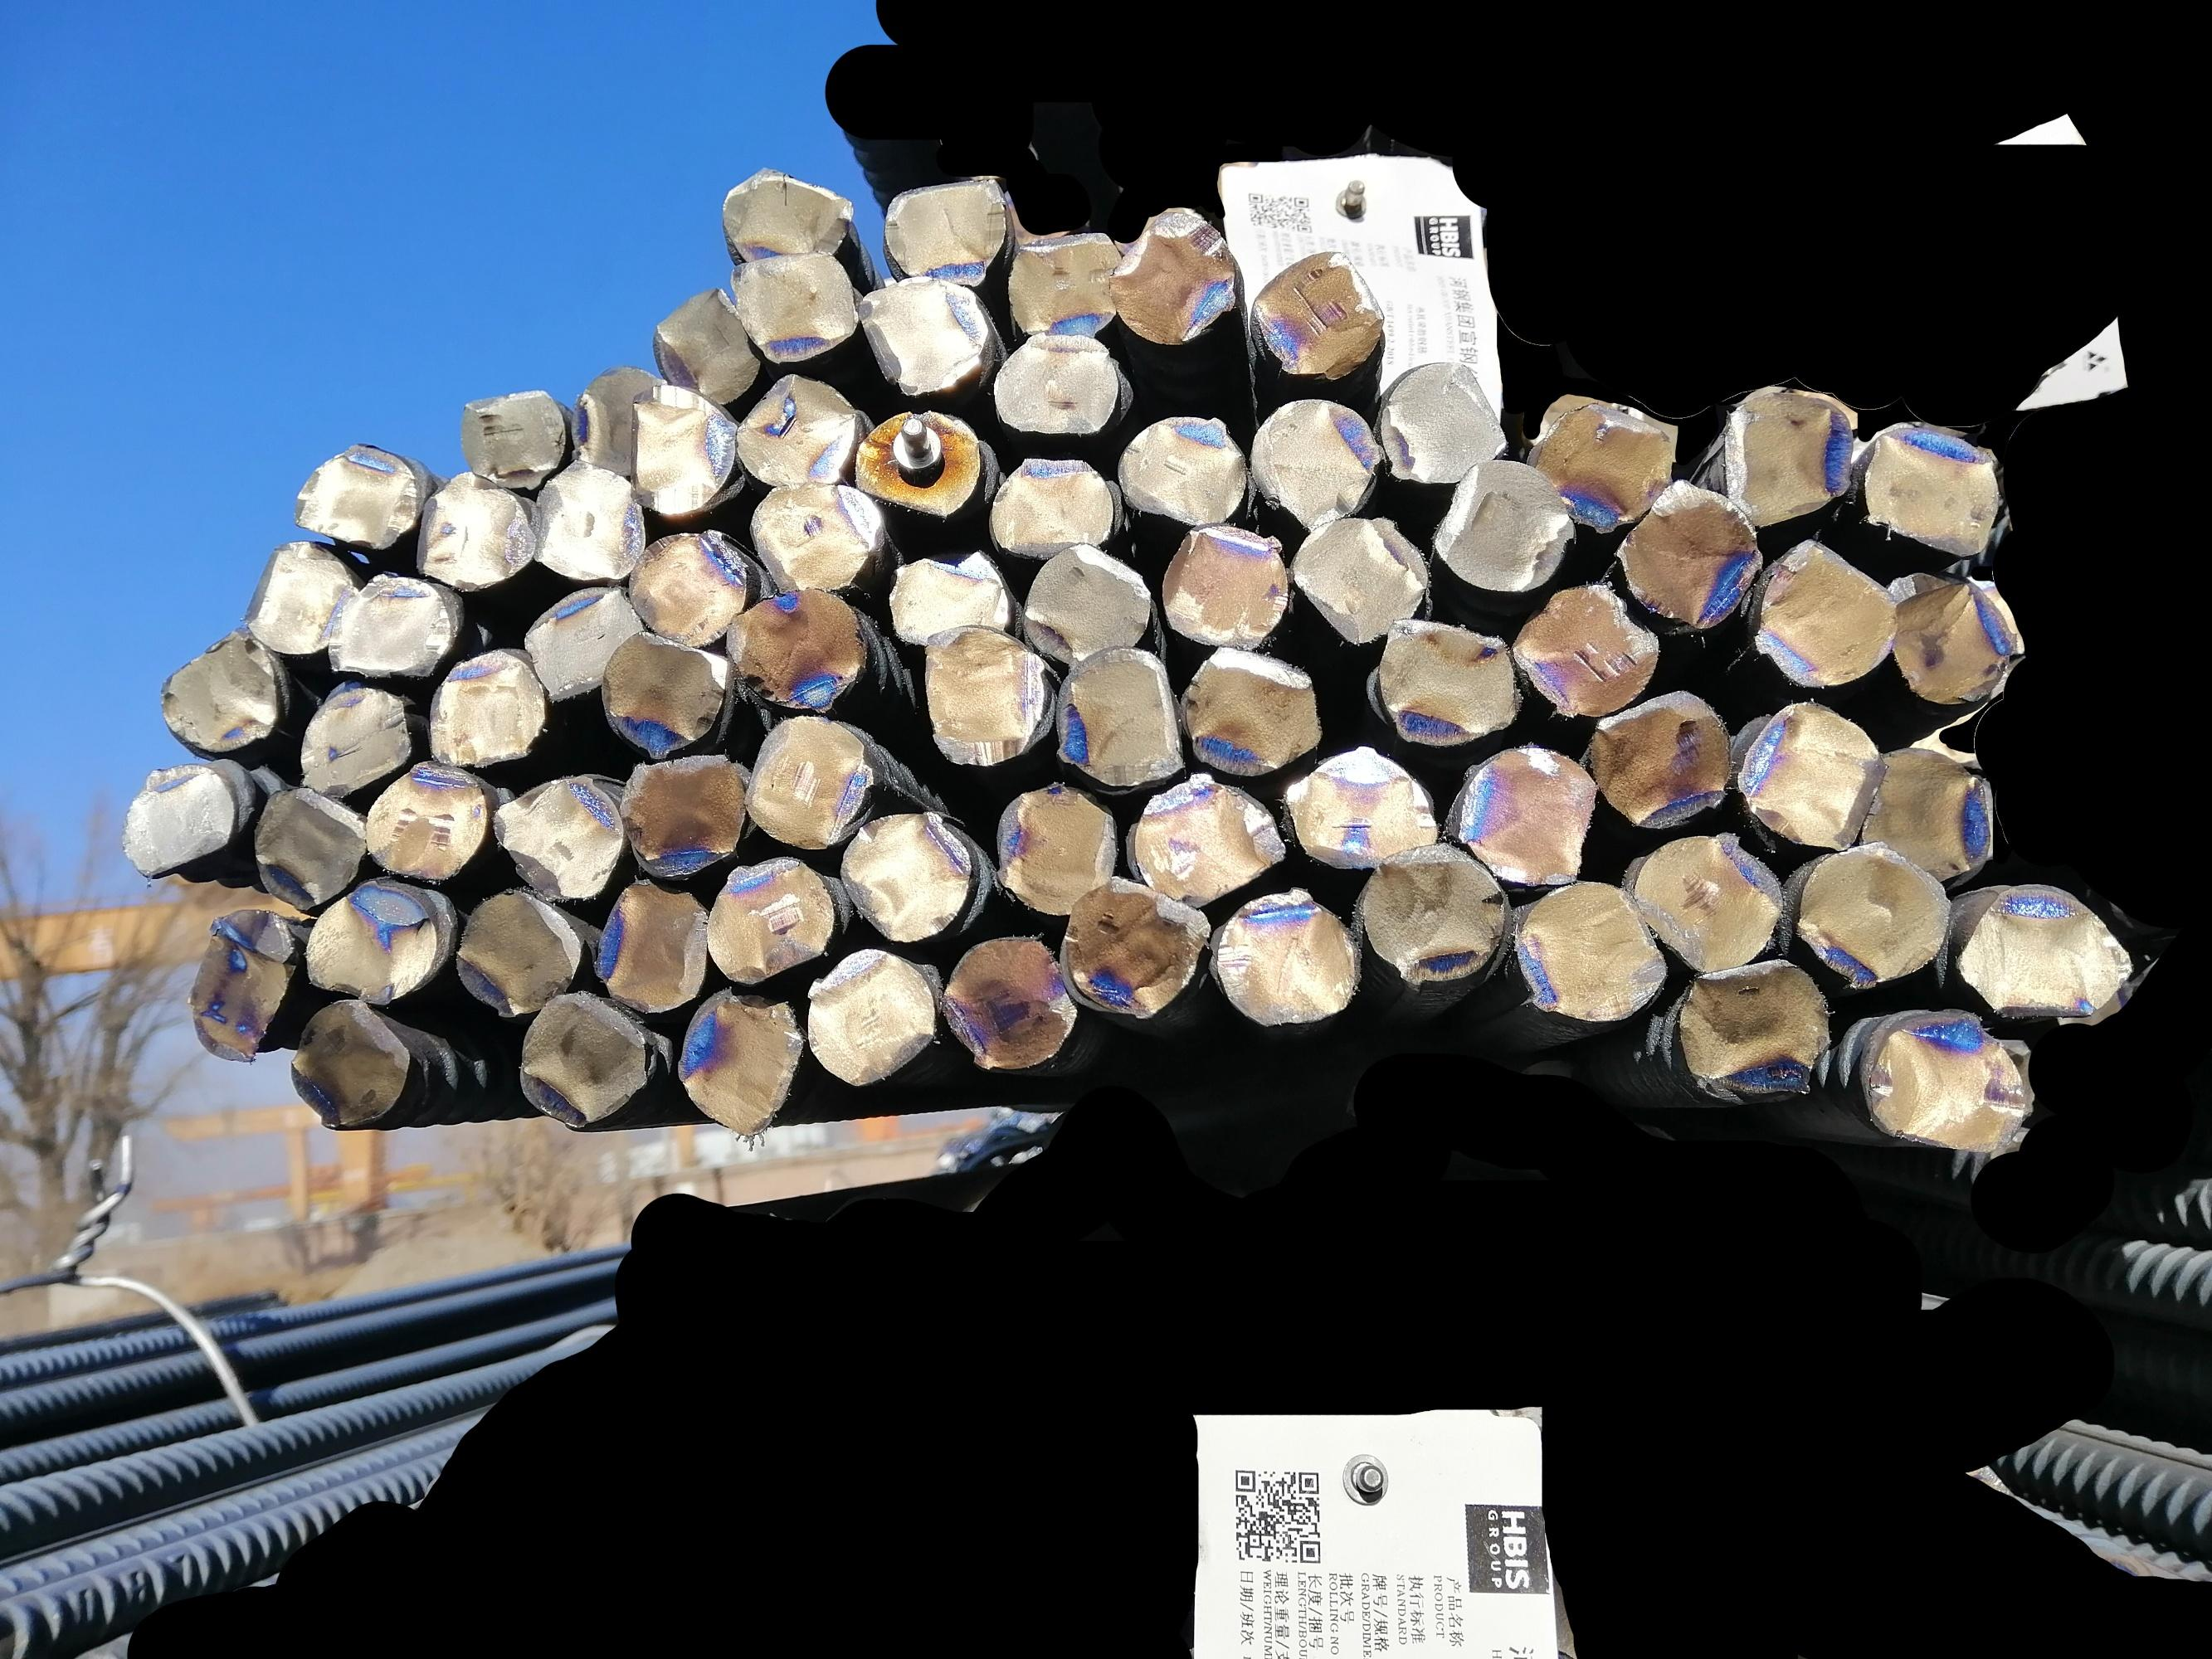bar: (1952, 870, 2127, 1021), (1733, 694, 1896, 850), (1506, 873, 1673, 1025), (1741, 537, 1900, 690), (1361, 606, 1527, 753), (1799, 833, 1952, 990), (1611, 479, 1764, 631), (1447, 739, 1602, 889), (1525, 387, 1680, 533), (1503, 579, 1658, 723), (1867, 1012, 2025, 1152), (1356, 833, 1504, 981), (1872, 563, 2022, 709), (1686, 945, 1829, 1098), (1056, 873, 1203, 1021), (1584, 687, 1736, 829), (1215, 882, 1361, 1028), (793, 941, 936, 1087), (176, 899, 298, 1070), (1853, 413, 1999, 554), (943, 929, 1081, 1077), (1862, 734, 1998, 884), (1177, 638, 1321, 777), (1135, 775, 1286, 908), (1633, 829, 1778, 967), (1245, 389, 1381, 533), (1281, 746, 1443, 866), (1435, 457, 1574, 596), (1102, 211, 1241, 349), (512, 985, 647, 1127), (281, 990, 411, 1136), (920, 620, 1049, 769), (1717, 390, 1856, 526), (840, 807, 974, 948), (1288, 512, 1431, 645), (669, 986, 791, 1140), (743, 714, 873, 857), (1058, 645, 1187, 786), (744, 477, 885, 606), (451, 885, 584, 1021), (1250, 251, 1386, 383), (300, 880, 443, 1006), (725, 589, 868, 713), (587, 878, 715, 1016), (994, 782, 1123, 915), (354, 756, 488, 884), (861, 277, 1002, 397), (492, 774, 622, 903), (1161, 525, 1290, 655), (617, 755, 750, 882), (1020, 542, 1154, 667), (521, 457, 654, 582), (593, 629, 736, 744), (1375, 362, 1510, 483), (729, 247, 859, 366), (519, 586, 654, 701), (159, 636, 286, 756), (246, 781, 364, 910), (730, 369, 861, 486), (1121, 413, 1253, 528), (626, 378, 736, 516), (708, 857, 828, 981), (628, 528, 748, 648), (882, 174, 1009, 288), (990, 329, 1123, 437), (987, 451, 1114, 563), (418, 476, 537, 594), (722, 164, 856, 268), (887, 544, 1011, 657), (856, 410, 987, 514), (427, 653, 549, 765), (122, 763, 235, 882), (326, 570, 451, 676), (242, 535, 354, 653), (293, 441, 417, 547), (654, 286, 765, 403), (1004, 230, 1123, 338), (296, 690, 410, 802), (455, 392, 568, 491), (572, 359, 662, 476)
